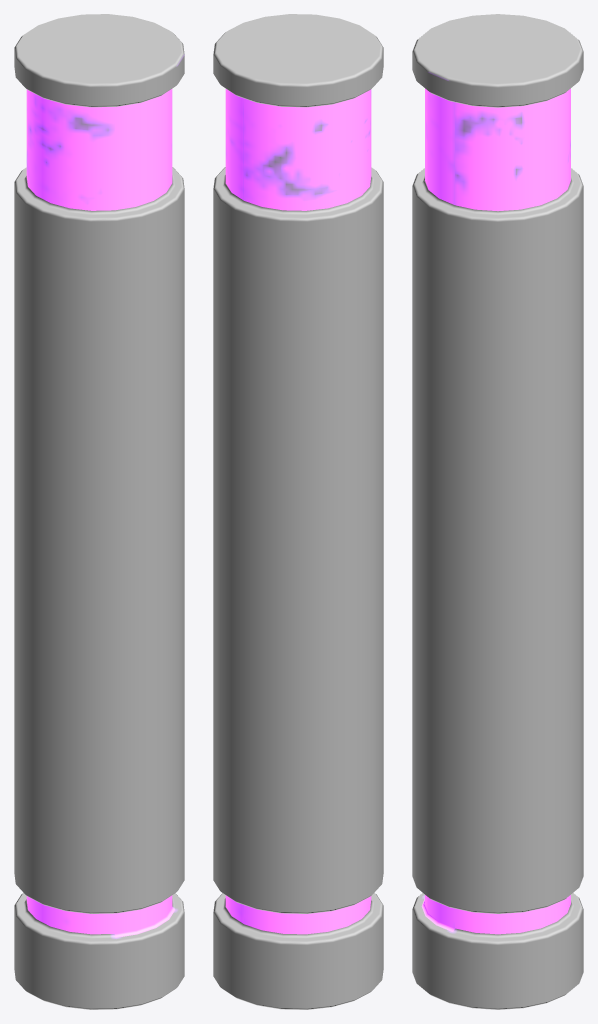
The model's file is SM_3DT_Bollard_02.fbx.
3 views of the same model, side by side, from view 1: azimuth 30°, elevation 25°; view 2: azimuth 150°, elevation 25°; view 3: azimuth 270°, elevation 25° (orthographic).
Visible parts, largest first — view 1: SM_3DT_Bollard_02; view 2: SM_3DT_Bollard_02; view 3: SM_3DT_Bollard_02.
Boxes of the visible parts, left/top/right/bottom form: SM_3DT_Bollard_02: left=14, top=14, right=184, bottom=1009; SM_3DT_Bollard_02: left=213, top=14, right=383, bottom=1009; SM_3DT_Bollard_02: left=412, top=14, right=583, bottom=1009.
Bounding box in the file's own units: 16.26 × 97.06 × 16.26.
